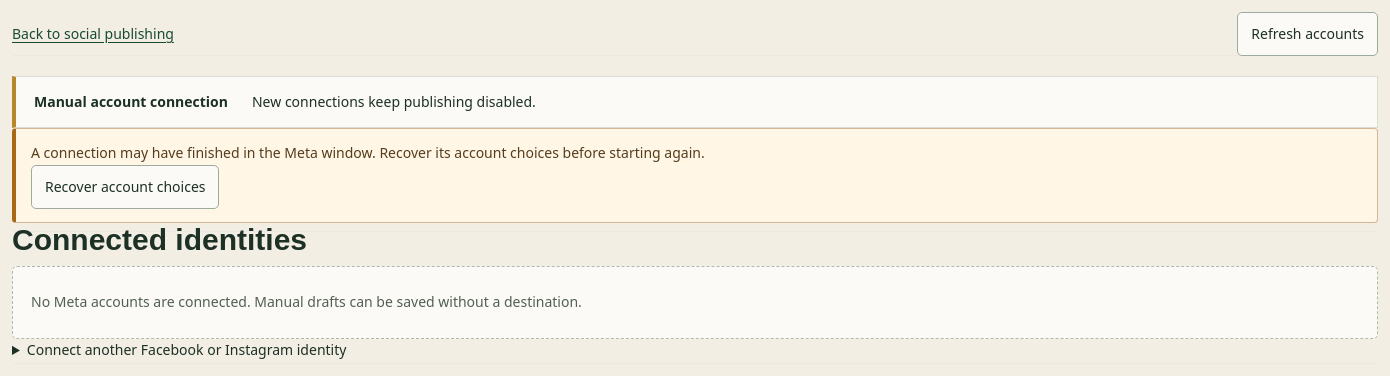
it: denial during explicit completion recovery is also terminal
What coordinates should you click on to do the following:
click the button "Recover account choices"
I would click on:
 (125, 187)
Its box is [31,165,220,209].
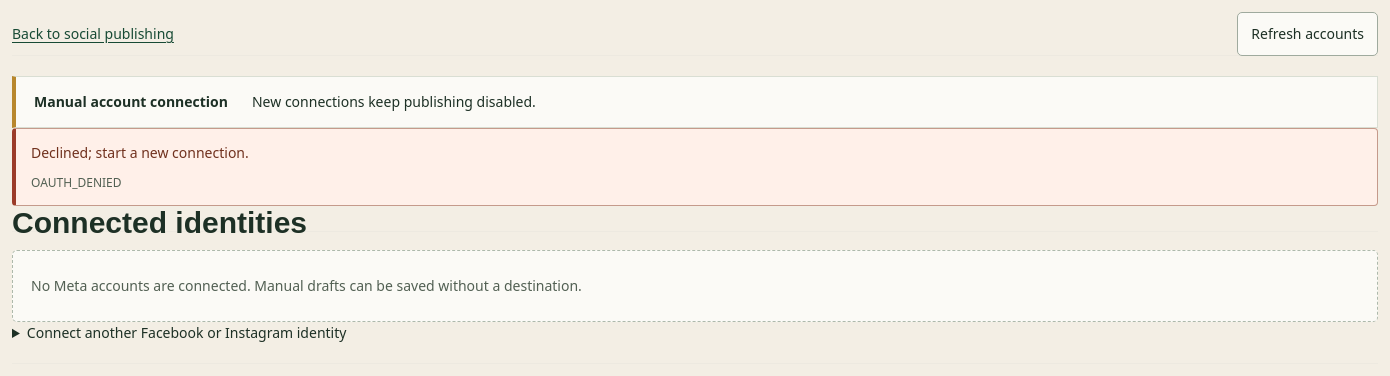
Check: the message "Declined; start a new connection. OAUTH_DENIED" is shown, box [12,128,1378,206]
Check: the button "Recover account choices" is gone
